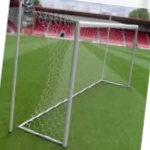goals: (17, 10, 140, 149)
